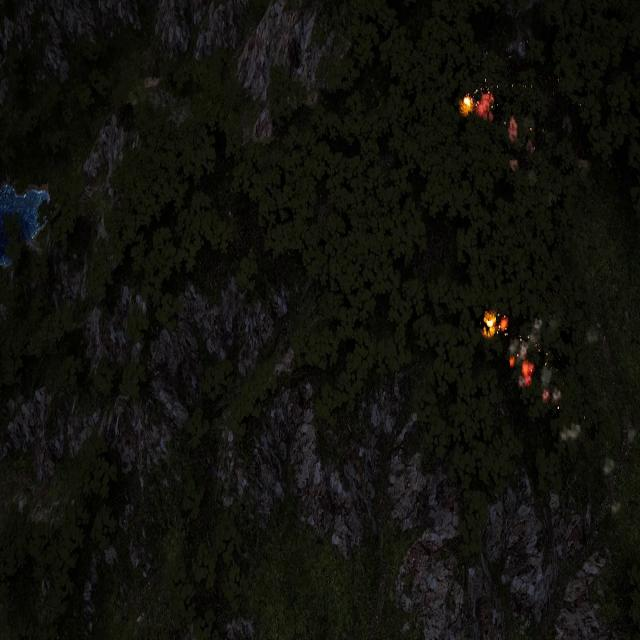fire: (476, 89, 494, 120), (484, 315, 505, 338), (460, 93, 473, 114)
smoke: (509, 316, 563, 407), (507, 114, 538, 174), (560, 422, 581, 443)
